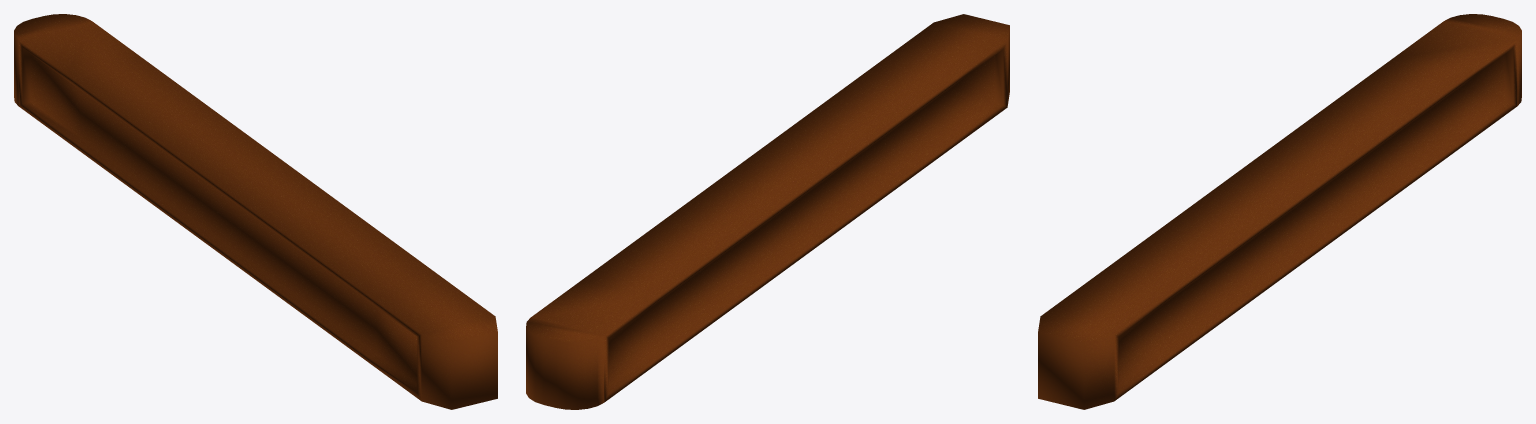
File: P90Mag.glb
3 views of the same model, side by side, from view 1: azimuth 30°, elevation 25°; view 2: azimuth 150°, elevation 25°; view 3: azimuth 330°, elevation 25° (orthographic).
Parts seen in each view (by area): view 1: Cube.004; view 2: Cube.004; view 3: Cube.004.
Part boxes in pixels (x1,y1,x2,y2): Cube.004: [14, 14, 497, 409]; Cube.004: [526, 14, 1009, 409]; Cube.004: [1038, 14, 1521, 409].
Size of the model in its own units: 0.2453 by 0.2131 by 2.52.
1 material, 1 textured.
